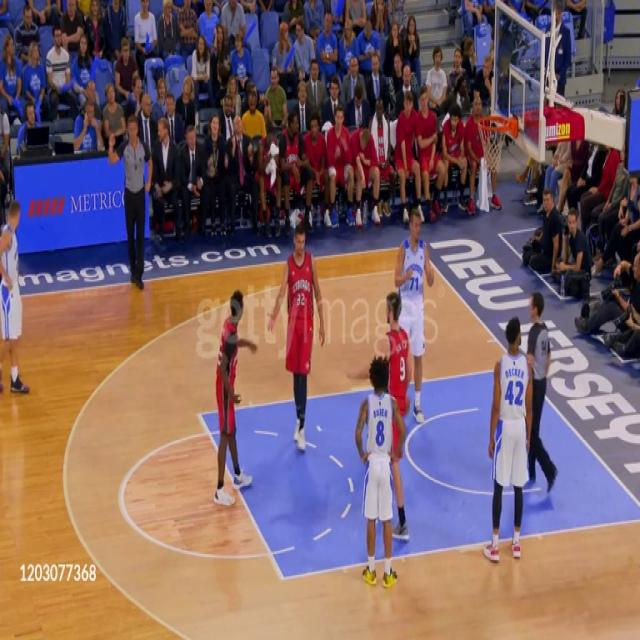ball: (372, 330, 391, 363)
